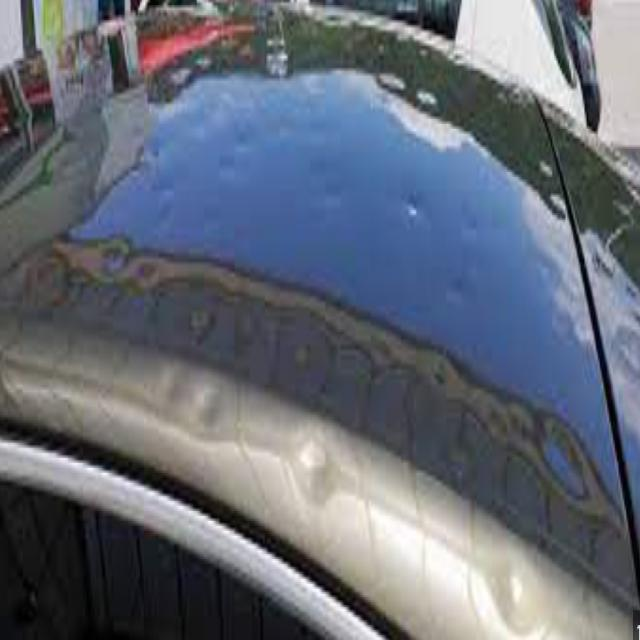dents: (477, 517, 541, 640), (536, 400, 594, 527), (292, 409, 333, 536), (402, 178, 442, 263), (196, 377, 231, 468), (150, 348, 185, 426), (186, 280, 217, 346), (100, 211, 125, 286), (235, 112, 258, 185), (218, 117, 234, 209), (139, 239, 159, 307), (453, 261, 474, 324), (136, 124, 166, 168), (536, 133, 555, 200), (462, 204, 479, 258), (158, 194, 176, 244)
